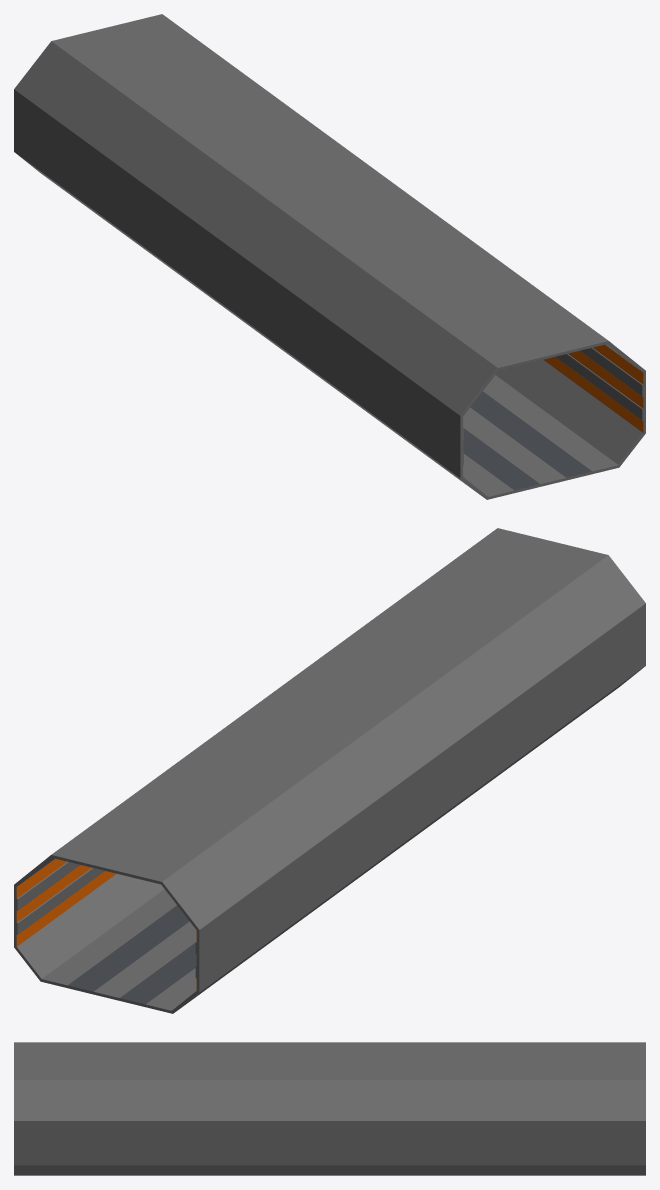
File: Corridor.fbx
The picture shows the model from 3 angles, top to bottom: view 1: azimuth 30°, elevation 25°; view 2: azimuth 150°, elevation 25°; view 3: azimuth 270°, elevation 25°; orthographic projection. The views are drawn at different scales.
Visible parts, largest first — view 1: Sci-Fi Corridor.004; view 2: Sci-Fi Corridor.004; view 3: Sci-Fi Corridor.004.
Part boxes in pixels (<box>): Sci-Fi Corridor.004: <box>14,14,645,499</box>; Sci-Fi Corridor.004: <box>14,528,645,1013</box>; Sci-Fi Corridor.004: <box>14,1042,645,1175</box>.
Size of the model in its own units: 600 by 400 by 2500.
